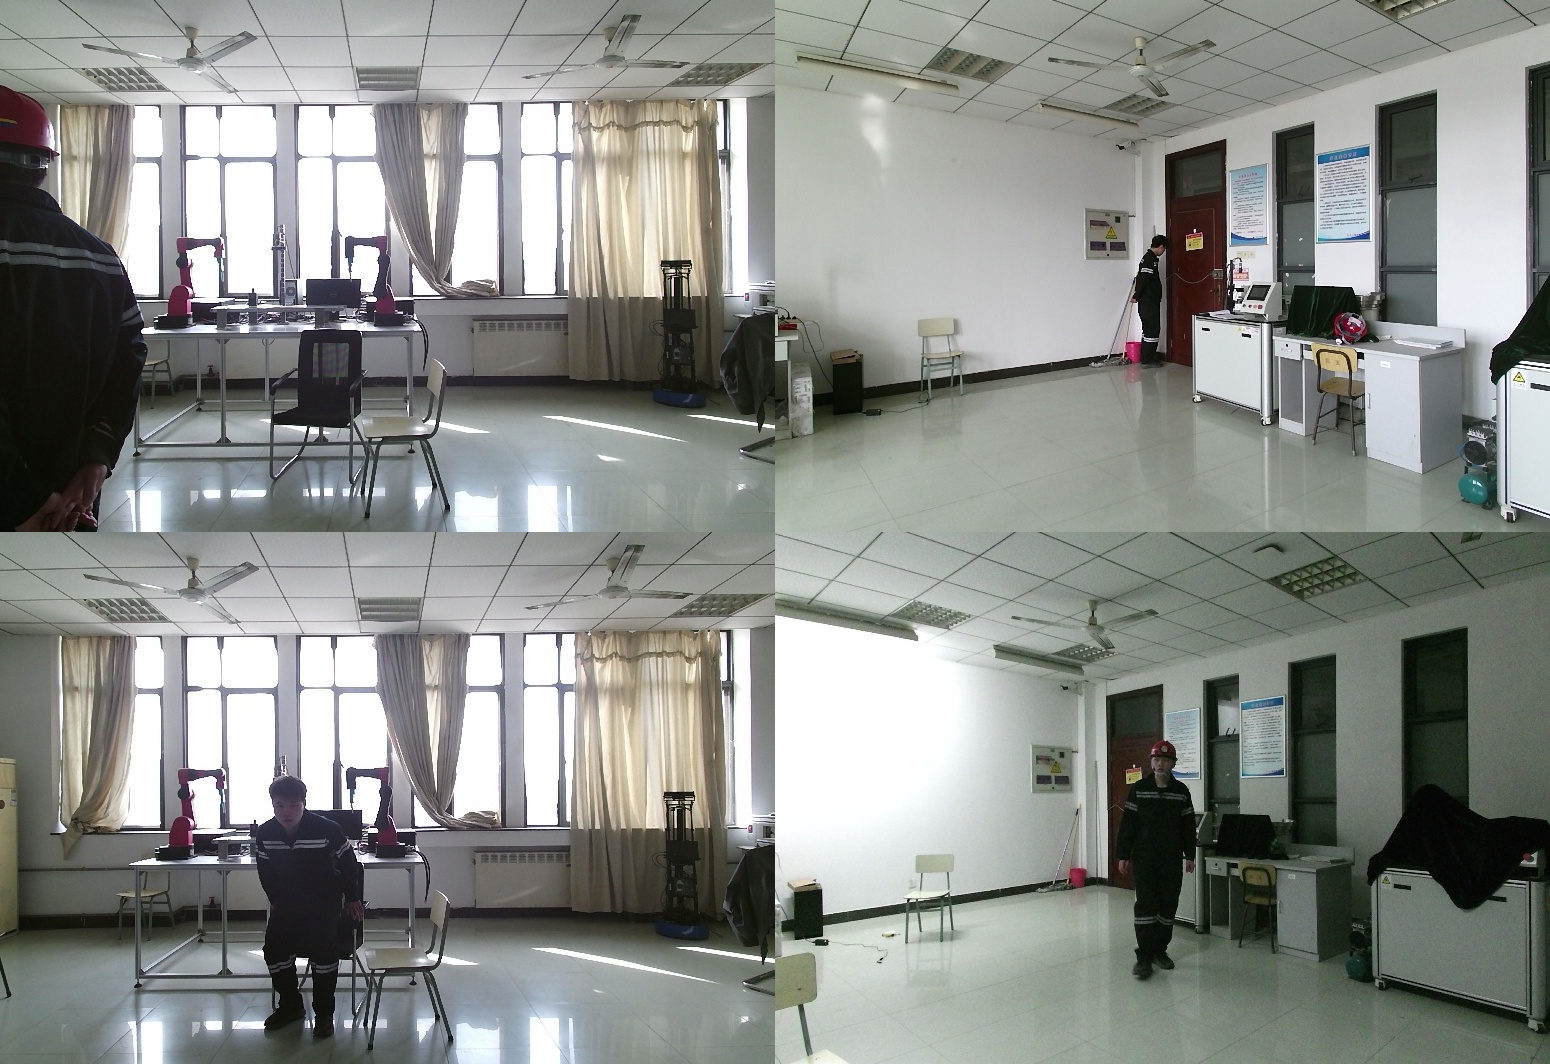person: (1, 87, 148, 532), (250, 780, 367, 1036), (1117, 741, 1205, 980), (1132, 236, 1173, 374)
